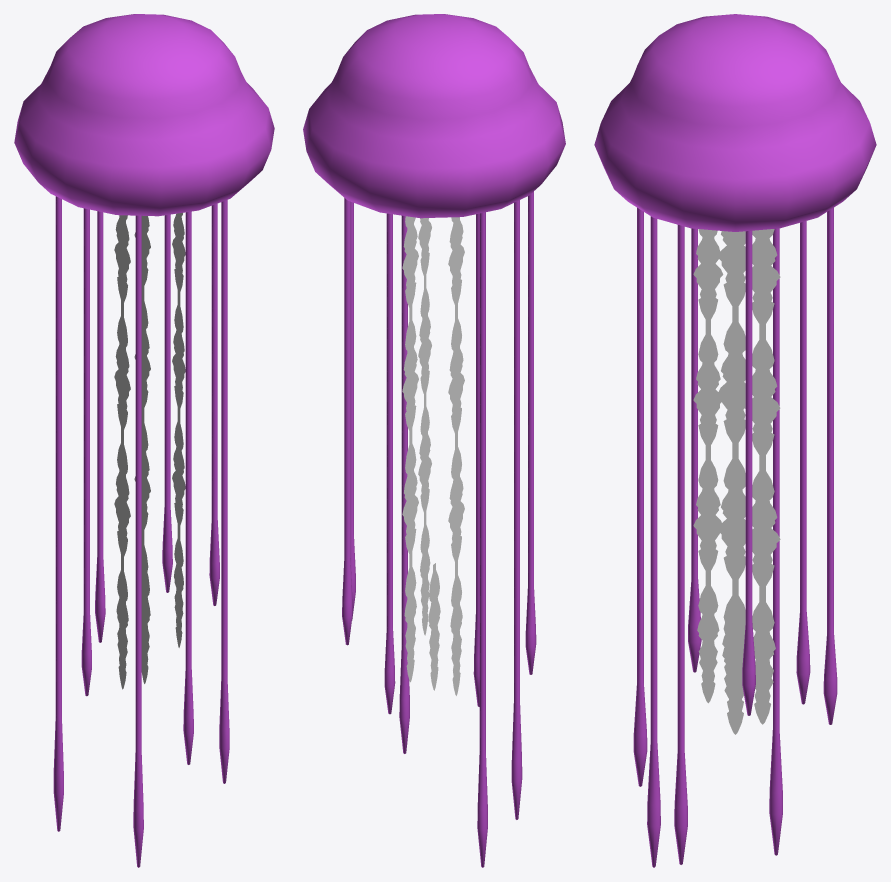
Rendered from JellyfishV2.fbx.
3 views of the same model, side by side, from view 1: azimuth 30°, elevation 25°; view 2: azimuth 150°, elevation 25°; view 3: azimuth 270°, elevation 25° (orthographic). The views are drawn at different scales.
Parts seen in each view (by area): view 1: JellyHead, CentreTentacle.002, Tentacle.007, Tentacle.002, Tentacle.005, Tentacle.003, Tentacle.001, CentreTentacle, Tentacle, Tentacle.006, Tentacle.004, CentreTentacle.001; view 2: JellyHead, CentreTentacle.002, Tentacle.002, CentreTentacle.001, Tentacle.007, Tentacle, CentreTentacle, Tentacle.004, Tentacle.005, Tentacle.001, Tentacle.003, Tentacle.006; view 3: JellyHead, CentreTentacle.002, CentreTentacle.001, CentreTentacle, Tentacle.007, Tentacle.005, Tentacle.002, Tentacle.003, Tentacle.006, Tentacle, Tentacle.004, Tentacle.001.
Boxes of the visible parts, x1,y1,x2,y2 form: JellyHead: (14, 14, 274, 216); CentreTentacle.002: (114, 215, 150, 689); Tentacle.007: (133, 215, 143, 867); Tentacle.002: (53, 196, 63, 831); Tentacle.005: (219, 200, 229, 783); Tentacle.003: (183, 211, 193, 764); Tentacle.001: (81, 208, 91, 696); CentreTentacle: (172, 213, 185, 647); Tentacle: (95, 211, 105, 642); Tentacle.006: (209, 203, 219, 605); Tentacle.004: (162, 214, 172, 592); CentreTentacle.001: (134, 215, 150, 571); JellyHead: (303, 14, 565, 218); CentreTentacle.002: (428, 217, 464, 695); Tentacle.002: (477, 212, 487, 867); CentreTentacle.001: (402, 216, 418, 682); Tentacle.007: (511, 200, 522, 819); Tentacle: (384, 213, 395, 714); CentreTentacle: (418, 218, 431, 635); Tentacle.004: (342, 198, 352, 645); Tentacle.005: (399, 215, 409, 753); Tentacle.001: (525, 191, 536, 674); Tentacle.003: (473, 213, 479, 706); Tentacle.006: (350, 201, 355, 620); JellyHead: (594, 14, 876, 231); CentreTentacle.002: (718, 231, 745, 734); CentreTentacle.001: (745, 229, 780, 724); CentreTentacle: (693, 229, 723, 703); Tentacle.007: (647, 216, 660, 867); Tentacle.005: (674, 225, 687, 864); Tentacle.002: (769, 228, 782, 855); Tentacle.003: (633, 207, 647, 786); Tentacle.006: (742, 230, 755, 715); Tentacle: (823, 207, 837, 724); Tentacle.004: (796, 221, 810, 704); Tentacle.001: (688, 228, 701, 672).
Bounding box in the file's own units: 208 × 701 × 208.
